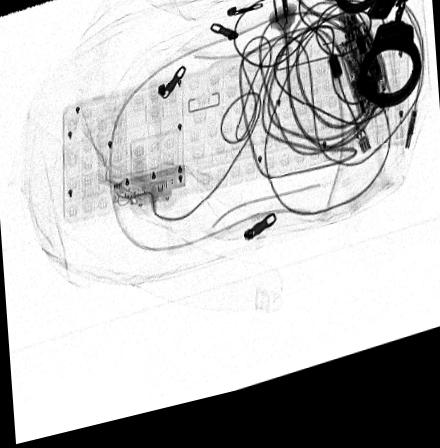HandCuffs: (329, 0, 421, 127)
